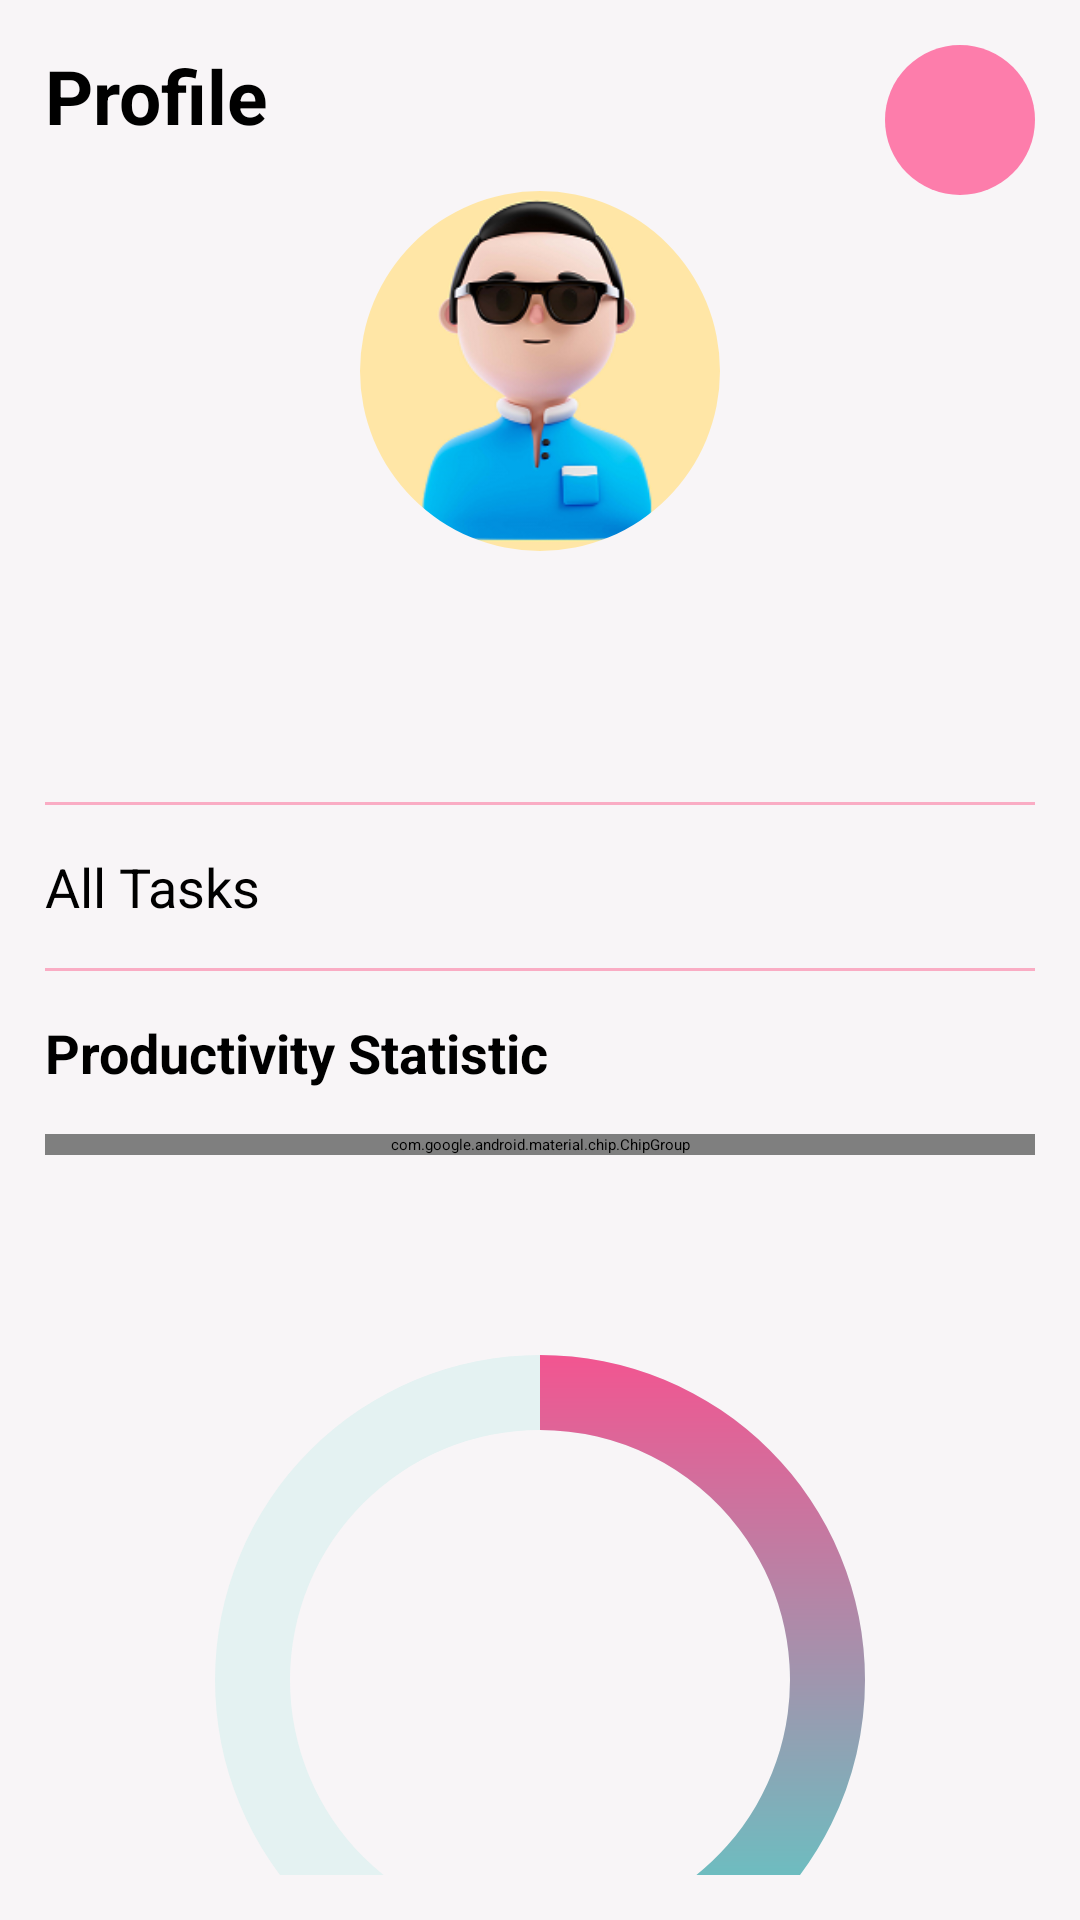

Where icons sit on this 1080x1920 app screen, as (x1, y1, x2, y2):
male user: (360, 191, 720, 551)
